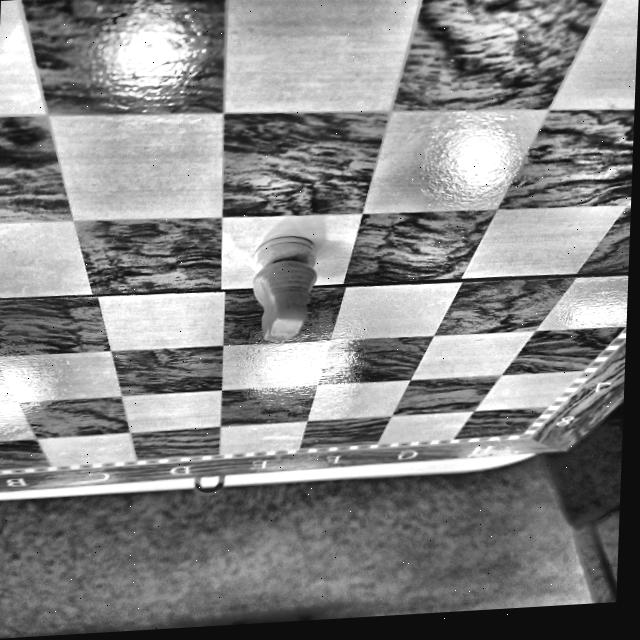white-knight: (250, 237, 317, 342)
